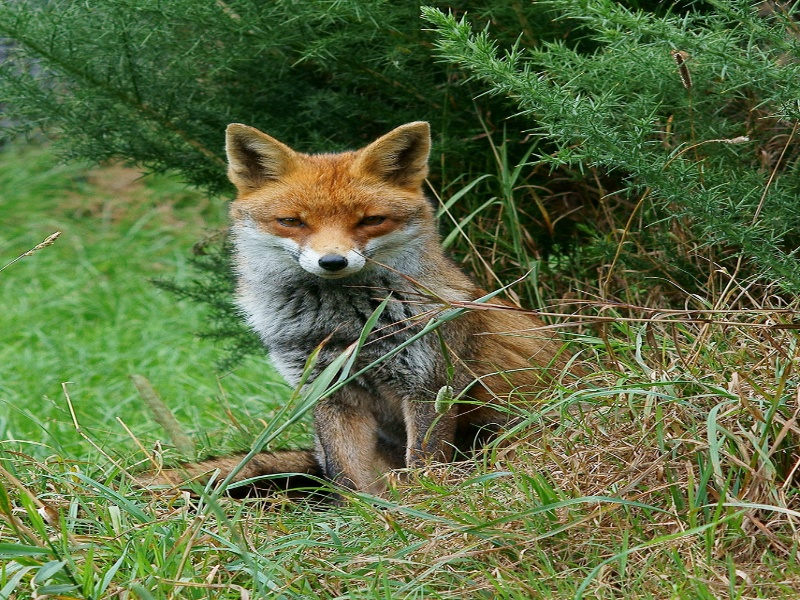fox: (153, 114, 595, 489)
